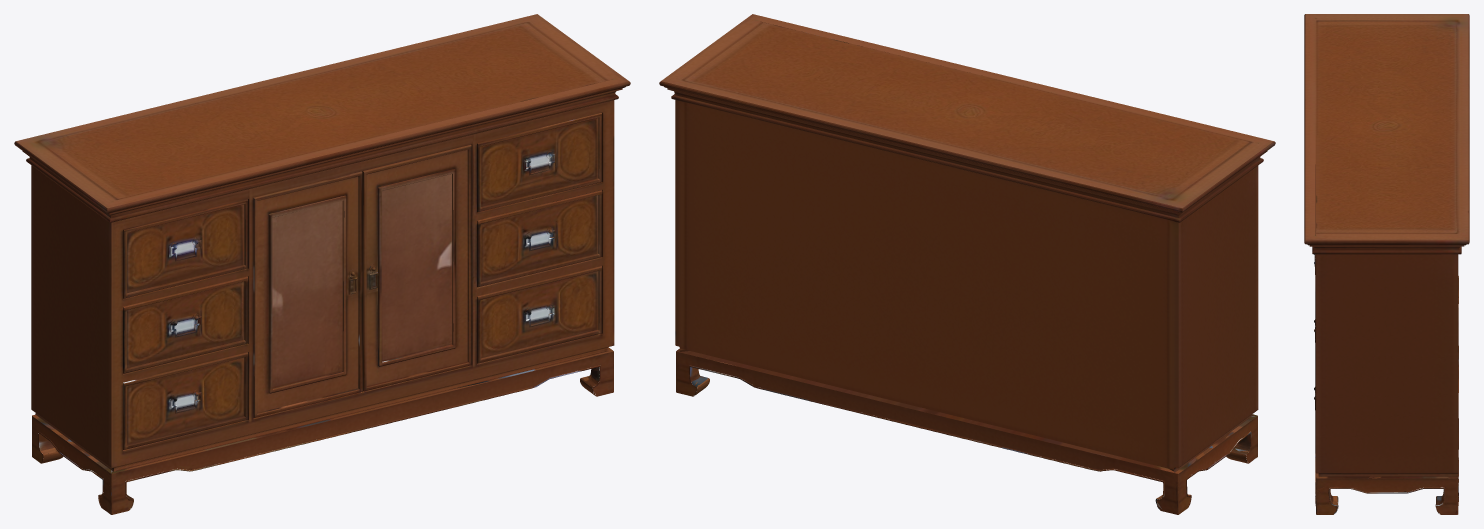
The model's file is edited_mesh.glb.
3 views of the same model, side by side, from view 1: azimuth 30°, elevation 25°; view 2: azimuth 150°, elevation 25°; view 3: azimuth 270°, elevation 25° (orthographic). The views are drawn at different scales.
Visible parts, largest first — view 1: solid_001_wire; view 2: solid_001_wire; view 3: solid_001_wire.
Part boxes in pixels (left/top/right/bottom): solid_001_wire: left=14, top=14, right=630, bottom=514; solid_001_wire: left=659, top=14, right=1275, bottom=514; solid_001_wire: left=1304, top=14, right=1469, bottom=514.
Bounding box in the file's own units: 1.86 × 1.07 × 0.5733.
Materials: 1 (1 with a texture image).
